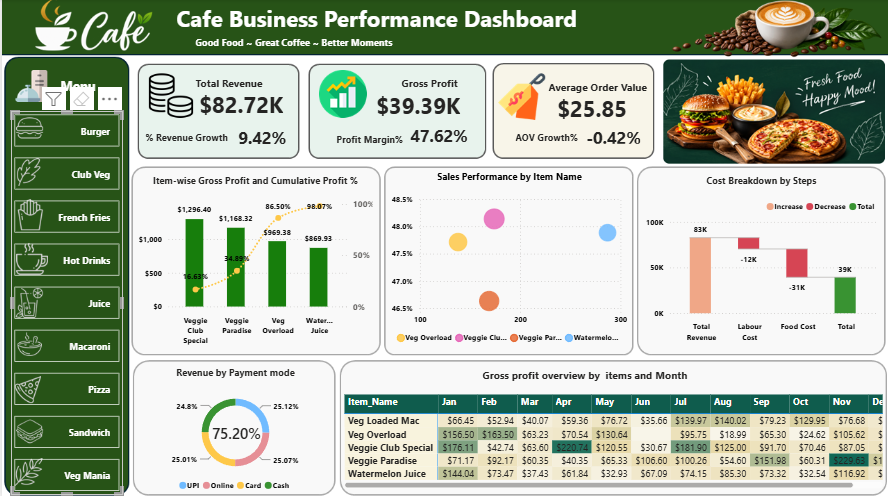

The page's visual inventory and layout, read from the dashboard file:
{"tool":"powerbi","page":{"name":"Page 1","canvas":[1280,720],"ordinal":0},"visuals":[{"type":"cardVisual","fields":{"Data":["Dtae.Total_Revenue"]},"box":[254.9,113.8,187.2,72],"z":0},{"type":"cardVisual","fields":{"Data":["Dtae.Gross_Profit"]},"box":[509.8,110.9,210.2,80.6],"z":1000},{"type":"cardVisual","fields":{"Data":["Dtae.Avg_order_value"]},"box":[770.4,113.8,162.7,83.5],"z":2000},{"type":"cardVisual","fields":{"Data":["Dtae.Revenue_Growth%"]},"box":[311,165.6,132.5,63.4],"z":3000},{"type":"cardVisual","fields":{"Data":["Dtae.Profit_Margin"]},"box":[558.7,162.7,144,63.4],"z":4000},{"type":"cardVisual","fields":{"Data":["Dtae.AOV_Growth%"]},"box":[812.2,168.5,148.3,57.6],"z":5000},{"type":"lineClusteredColumnComboChart","title":"Item-wise  Gross Profit and Cumulative Profit %","fields":{"Category":["cafe_dataset.Item_Name"],"Y":["Dtae.Gross_Profit"],"Y2":["Dtae.cumulative_profit%"]},"box":[191.5,252,347,254.9],"z":6000},{"type":"advancedSlicerVisual","fields":{"Values":["cafe_dataset.Category"]},"box":[13,161.3,161.3,553],"z":7000},{"type":"scatterChart","title":"Sales Performance by Item Name","fields":{"X":["Sum(cafe_dataset.Quantity)"],"Y":["Dtae.Profit_Margin"],"Series":["cafe_dataset.Item_Name"],"Size":["Dtae.Total_Revenue"]},"box":[555.8,246.2,349.9,259.2],"z":8000},{"type":"waterfallChart","title":"Cost Breakdown by Steps","fields":{"Category":["Waterfall_Steps.Step"],"Y":["Waterfall_Steps.Costwaterfall_values"]},"box":[921.6,252,344.2,249.1],"z":9000},{"type":"donutChart","title":"Revenue by Payment mode","fields":{"Category":["cafe_dataset.Payment_Mode"],"Y":["Dtae.Total_Revenue"]},"box":[195.8,528.5,280.8,190.1],"z":10000},{"type":"cardVisual","fields":{"Data":["Dtae.Digital_Payment%"]},"box":[273.6,590.4,148.3,66.2],"z":11000},{"type":"textbox","box":[686.9,525.6,320.8,38.6],"z":12000},{"type":"textbox","box":[246.2,0,633.6,60.5],"z":13000},{"type":"textbox","box":[79.2,108,82.1,41.8],"z":14000},{"type":"pivotTable","fields":{"Rows":["cafe_dataset.Item_Name"],"Columns":["Dtae.Month"],"Values":["Dtae.Gross_Profit"]},"box":[488.2,564.5,784.8,145.4],"z":15000},{"type":"textbox","box":[273.6,105.1,116.6,43.2],"z":16000},{"type":"textbox","box":[570.2,105.1,116.6,43.2],"z":17000},{"type":"textbox","box":[781.9,110.9,162.7,43.2],"z":18000},{"type":"textbox","box":[201.6,185.8,175.7,30.2],"z":19000},{"type":"textbox","box":[476.6,188.6,164.2,40.3],"z":20000},{"type":"textbox","box":[734.4,185.8,145.4,30.2],"z":21000},{"type":"textbox","box":[273.6,49,318.2,41.8],"z":22000}]}

Visuals, with their boxes in screenshot pixels (x1, y1, x2, y2), scaled from the page's 1280x720 canvas onto the 888x496 screenshot:
cardVisual - Dtae.Total_Revenue: 177/78/307/128
cardVisual - Dtae.Gross_Profit: 354/76/500/132
cardVisual - Dtae.Avg_order_value: 534/78/647/136
cardVisual - Dtae.Revenue_Growth%: 216/114/308/158
cardVisual - Dtae.Profit_Margin: 388/112/487/156
cardVisual - Dtae.AOV_Growth%: 563/116/666/156
"Item-wise  Gross Profit and Cumulative Profit %" lineClusteredColumnComboChart: 133/174/374/349
advancedSlicerVisual - cafe_dataset.Category: 9/111/121/492
"Sales Performance by Item Name" scatterChart: 386/170/628/348
"Cost Breakdown by Steps" waterfallChart: 639/174/878/345
"Revenue by Payment mode" donutChart: 136/364/331/495
cardVisual - Dtae.Digital_Payment%: 190/407/293/452
textbox: 477/362/699/389
textbox: 171/0/610/42
textbox: 55/74/112/103
pivotTable - cafe_dataset.Item_Name x Dtae.Month: 339/389/883/489
textbox: 190/72/271/102
textbox: 396/72/476/102
textbox: 542/76/655/106
textbox: 140/128/262/149
textbox: 331/130/445/158
textbox: 509/128/610/149
textbox: 190/34/411/63
